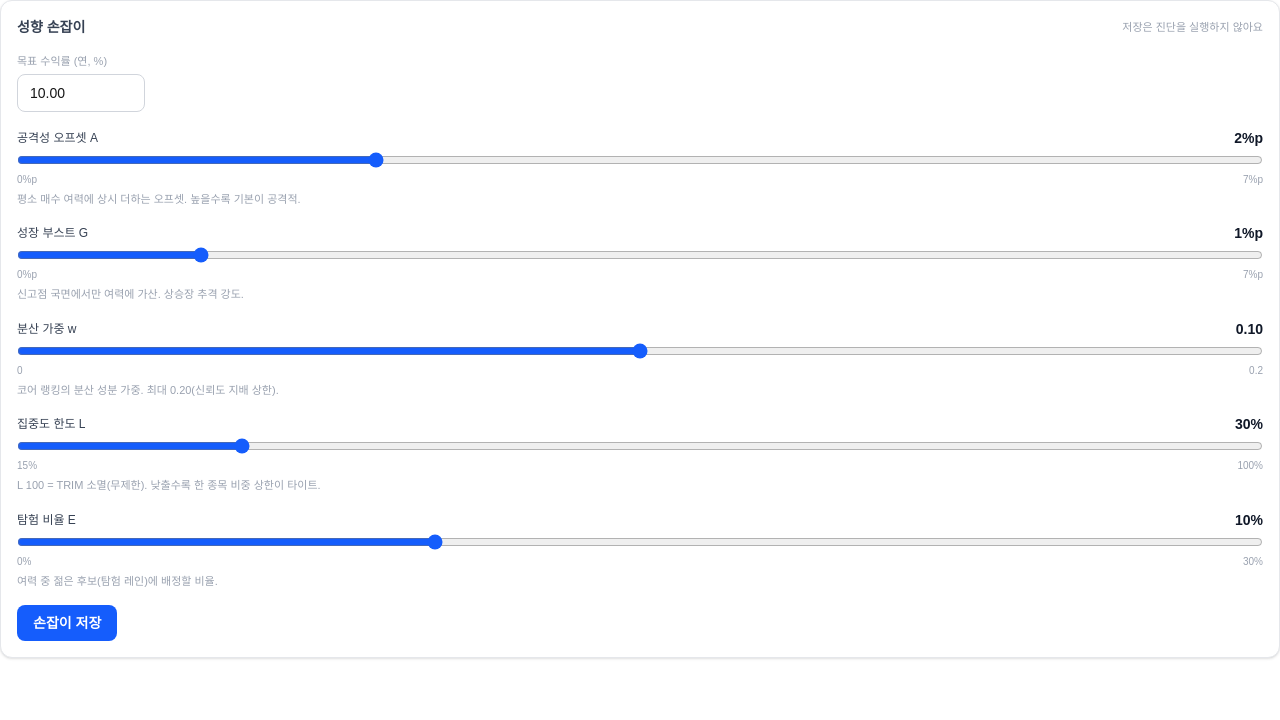
Test case: KnobsPanel 저장 플로우 › 슬라이더 조정 → 저장 → mutateAsync(string 페이로드) + 저장 피드백
Set the slider with test id "knob-slider-aggressiveness_offset" to "4" at (728, 160), box [17, 152, 1263, 168]
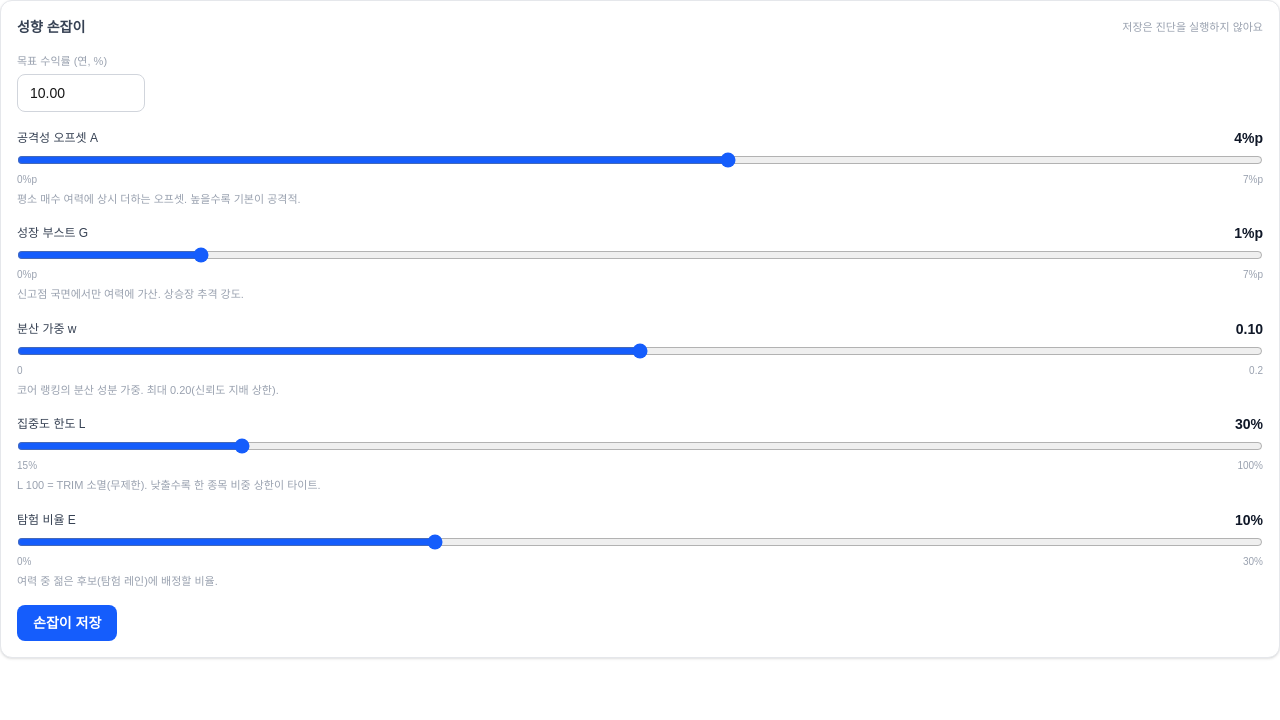
Expected: the text with test id "knob-value-aggressiveness_offset" reads "4%p", [1234, 128, 1263, 148]
Click the button with test id "knobs-save-button" at (67, 623), box [17, 605, 117, 641]
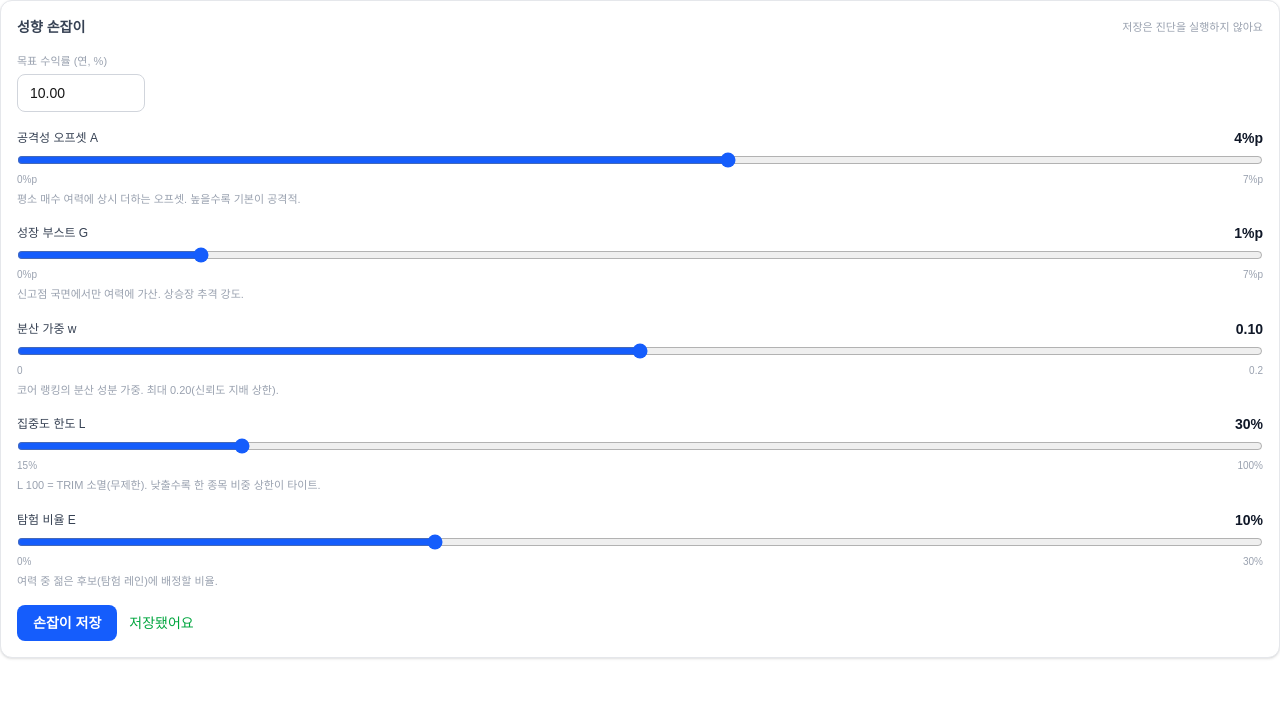
Expected: the text "저장됐어요" is shown, [129, 613, 194, 633]
